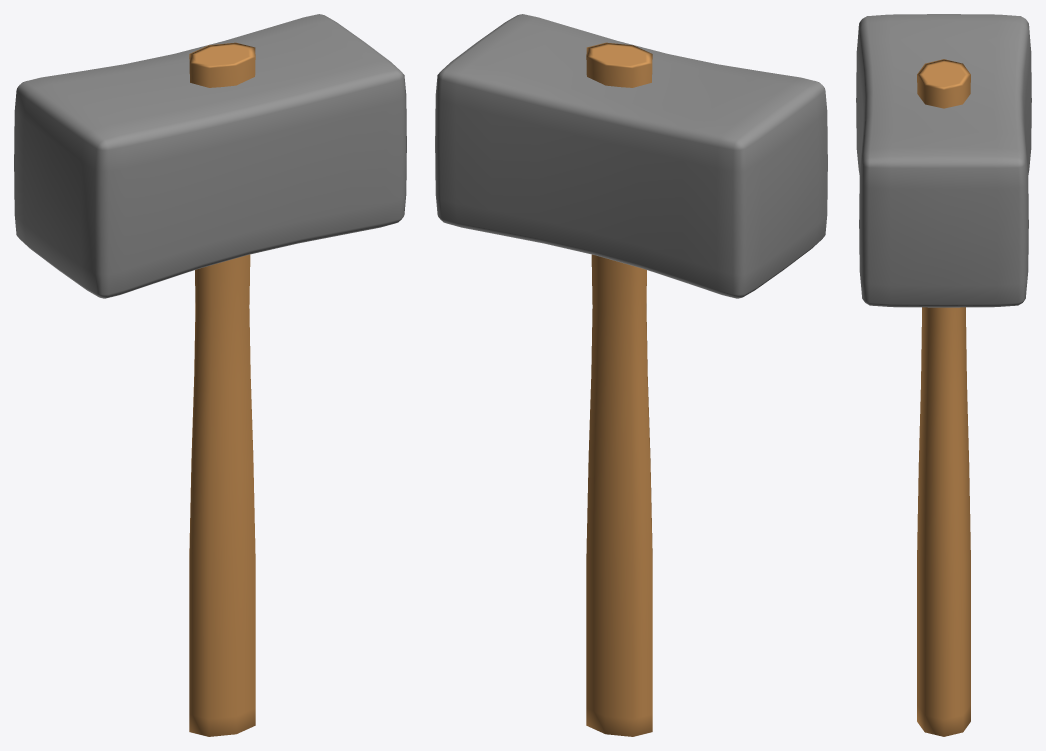
Rendered from mason_hammer.fbx.
The picture shows the model from 3 angles, left to right: view 1: azimuth 30°, elevation 25°; view 2: azimuth 150°, elevation 25°; view 3: azimuth 270°, elevation 25°; orthographic projection. The views are drawn at different scales.
Visible parts, largest first — view 1: mason_hammer; view 2: mason_hammer; view 3: mason_hammer.
Part boxes in pixels (bbox=[...]): mason_hammer: bbox=[14, 14, 406, 736]; mason_hammer: bbox=[435, 14, 827, 736]; mason_hammer: bbox=[856, 14, 1031, 736].
Bounding box in the file's own units: 1.15 × 2.26 × 0.5558.
